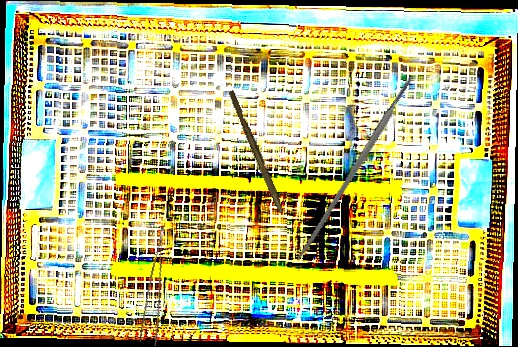Scalpel Handle: (294, 76, 416, 263), (225, 89, 288, 214)
Tissue Forceps: (133, 225, 184, 347)
